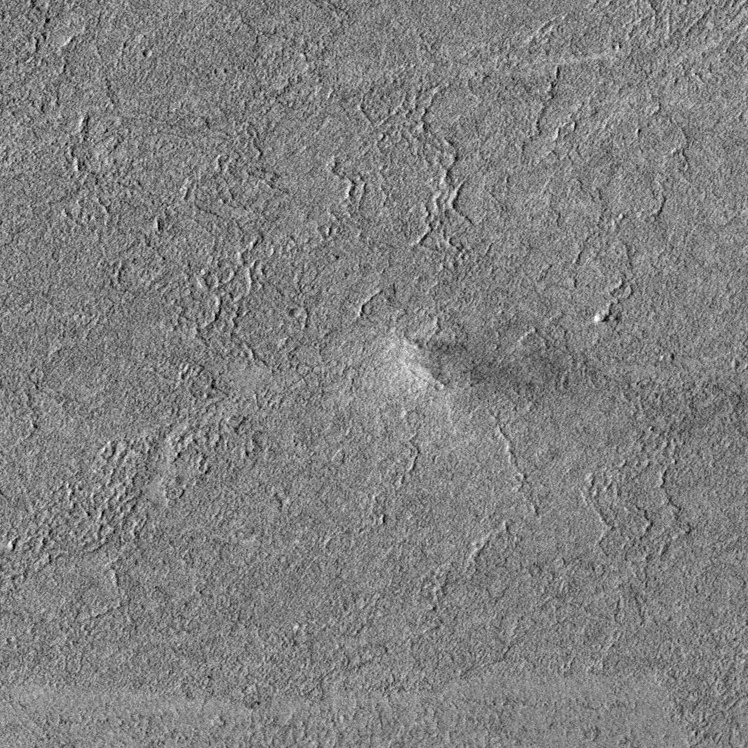dust_devil: (378, 321, 574, 406)
